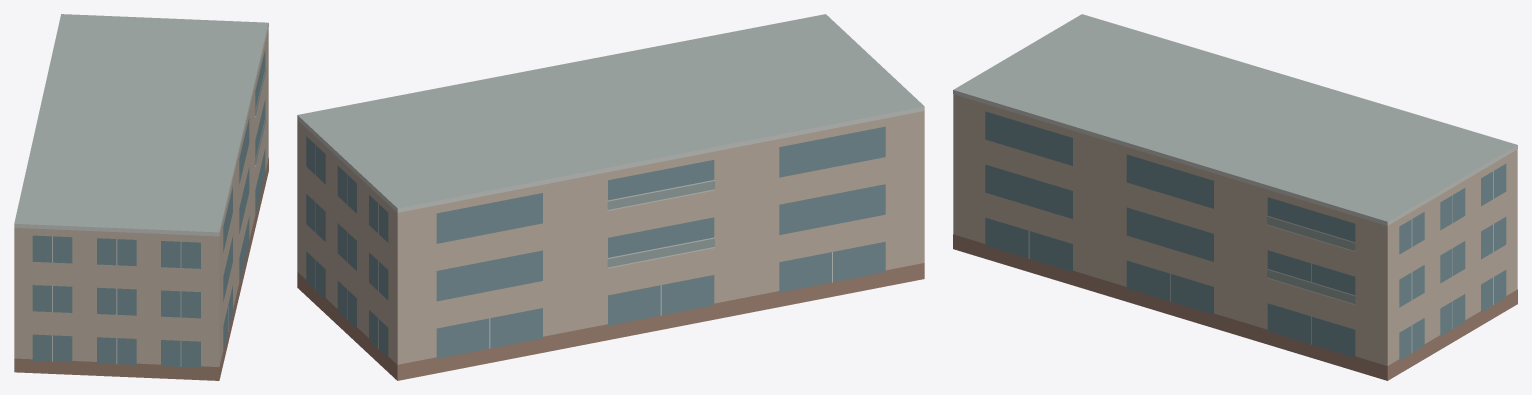
Rendered from survey-upis-32991114.glb.
3 renders of one model, left to right at view 1: azimuth 30°, elevation 25°; view 2: azimuth 150°, elevation 25°; view 3: azimuth 270°, elevation 25°, orthographic. The views are drawn at different scales.
Visible parts, largest first — view 1: survey-upis-32991114.tmp; view 2: survey-upis-32991114.tmp; view 3: survey-upis-32991114.tmp.
Boxes of the visible parts, x1,y1,x2,y2 form: survey-upis-32991114.tmp: (14, 14, 268, 380); survey-upis-32991114.tmp: (297, 14, 924, 380); survey-upis-32991114.tmp: (953, 14, 1517, 380).
Size of the model in its own units: 25.62 by 9.15 by 29.42.
